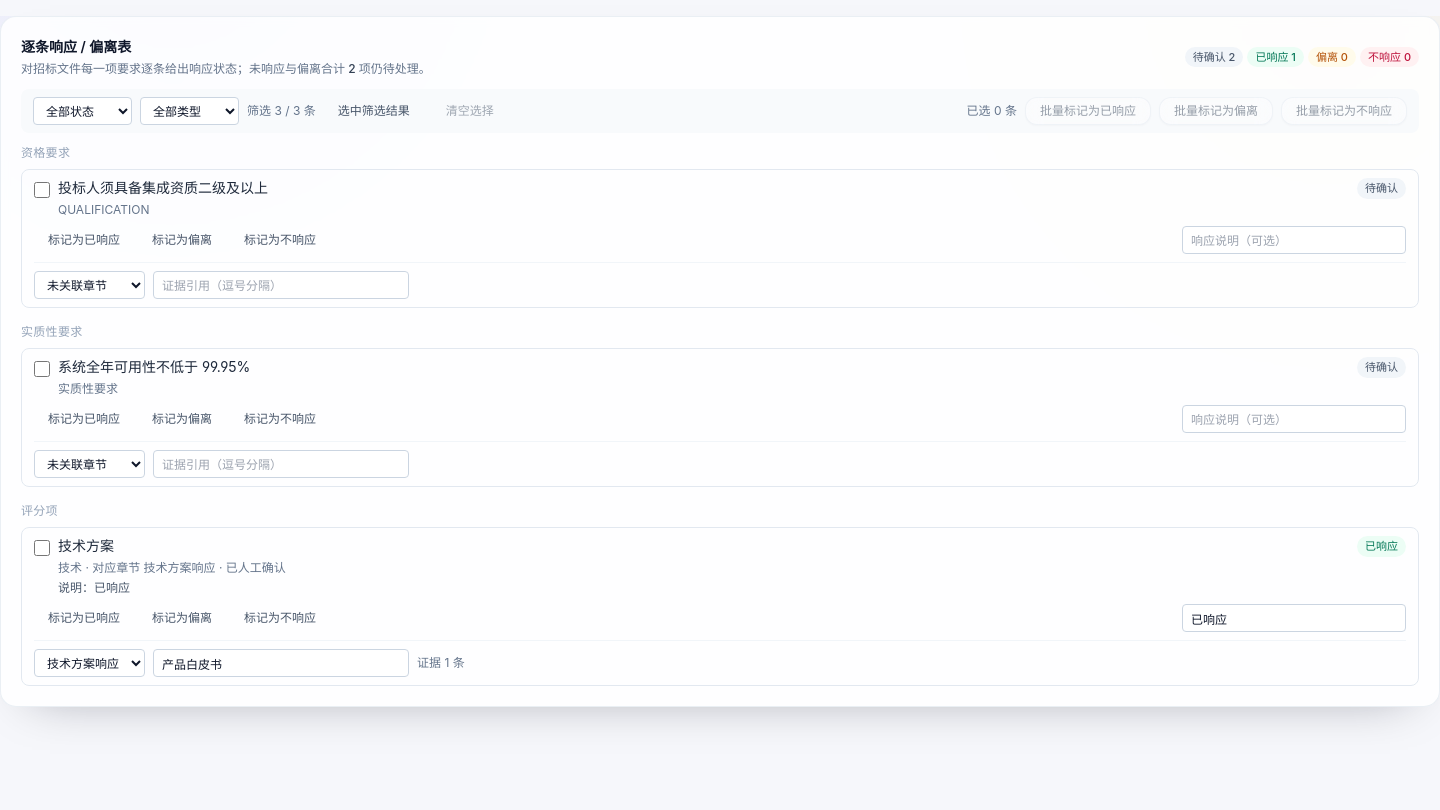
ComplianceResponses › narrows the list with the status filter
The width and height of the screenshot is (1440, 810).
Expected: the text "投标人须具备集成资质二级及以上" is shown, [58,178,268,198]
Expected: the text "技术方案" is shown, [58,537,114,554]
Select "只看未处理" in the dropdown named "按响应状态筛选" at (82, 111), box [33,97,132,125]
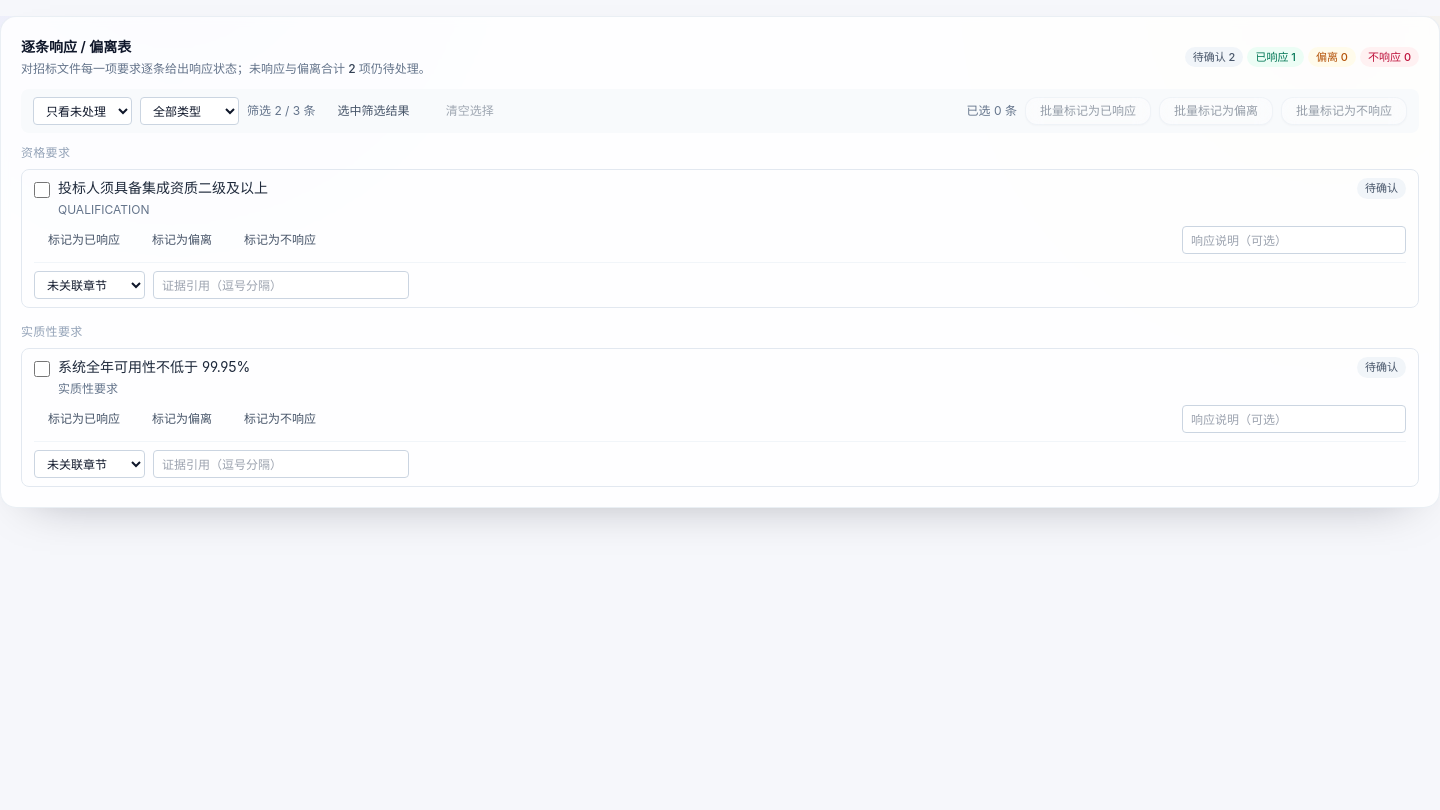
Expected: the text "筛选 2 / 3 条" is shown, [247,103,316,119]
Expected: the text "技术方案" is gone
